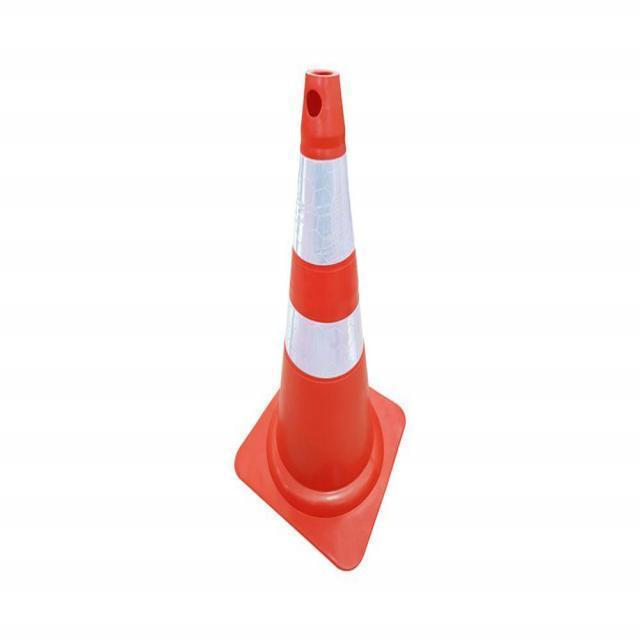traffic cone: (233, 68, 408, 572)
